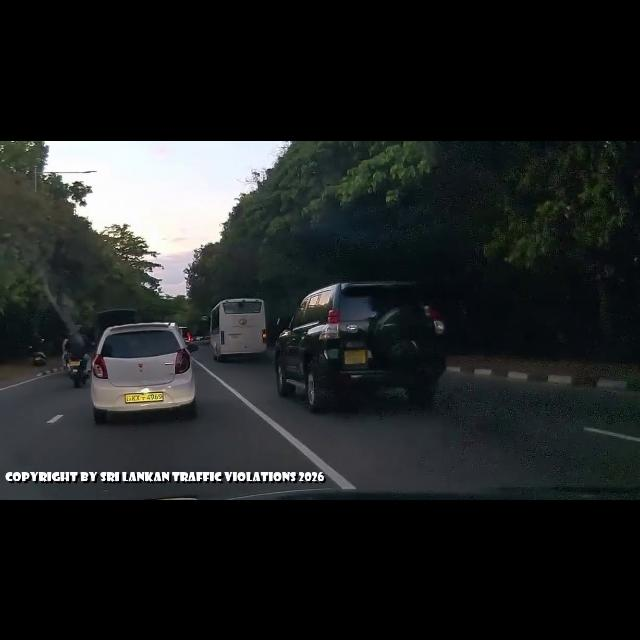bus: (222, 304, 266, 354)
car: (283, 287, 423, 393), (98, 329, 192, 417)
helmet: (72, 323, 82, 335)
motorcycle: (64, 351, 88, 381)
number_plate: (126, 393, 166, 403)
person: (70, 324, 88, 361)
solid_line: (224, 384, 306, 466)
